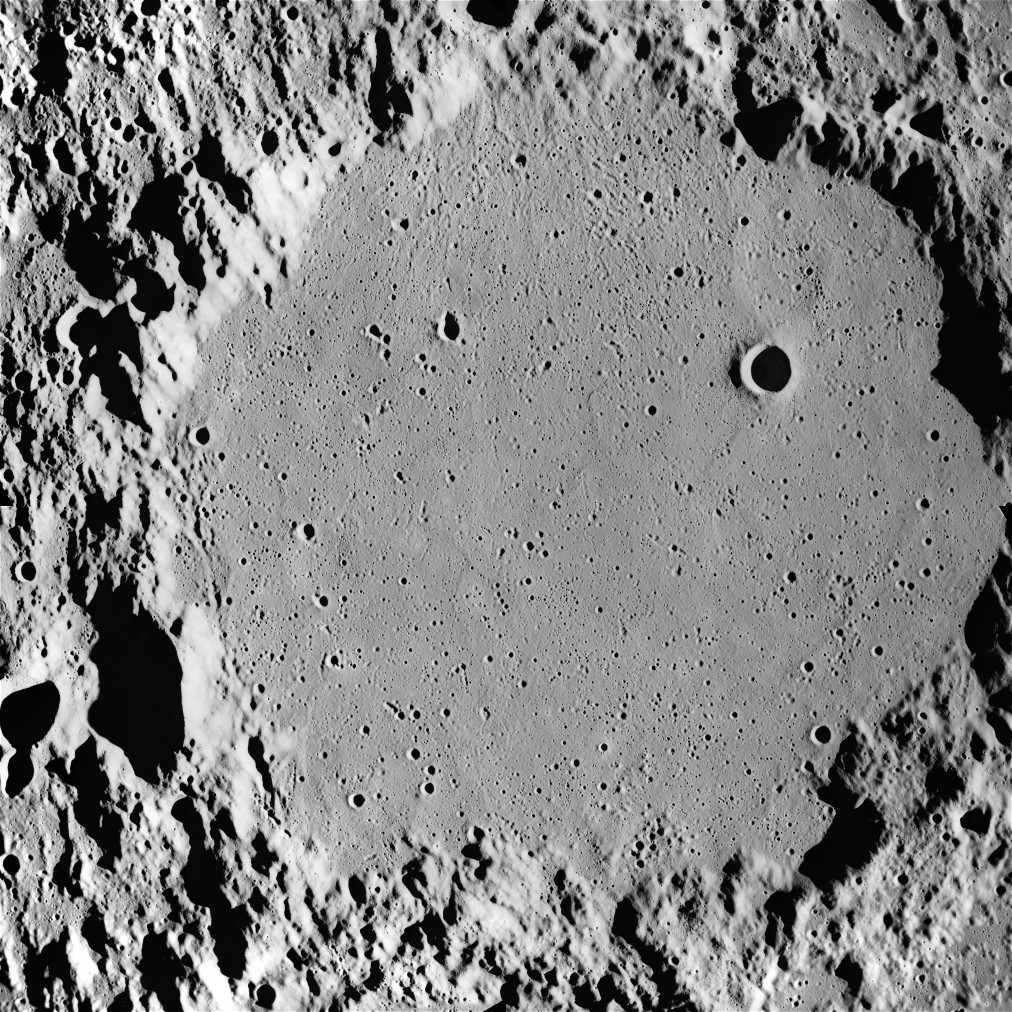crater: (721, 320, 849, 438)
